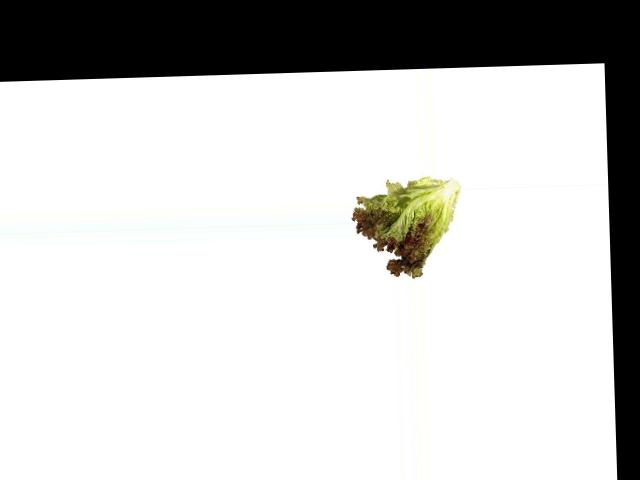lettuce: (350, 177, 462, 278)
